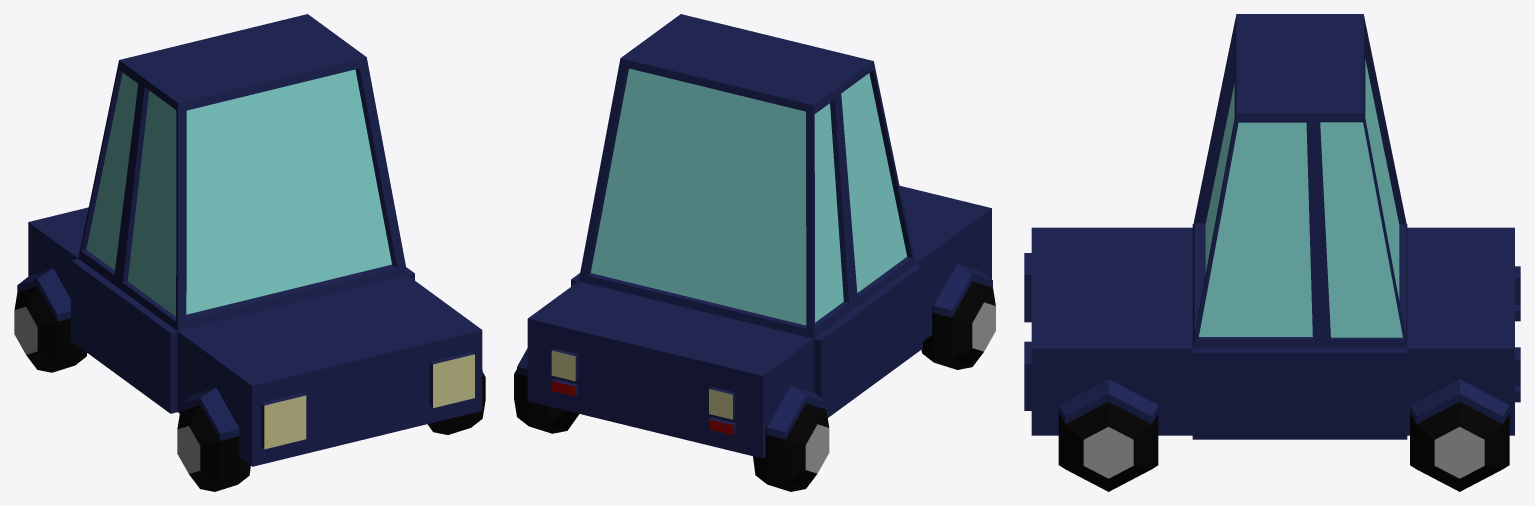
Rendered from LOW POLY CAR.fbx.
3 views of the same model, side by side, from view 1: azimuth 30°, elevation 25°; view 2: azimuth 150°, elevation 25°; view 3: azimuth 270°, elevation 25° (orthographic). The views are drawn at different scales.
Parts seen in each view (by area): view 1: Cube; view 2: Cube; view 3: Cube.
Boxes of the visible parts, x1,y1,x2,y2 form: Cube: (14, 14, 485, 491); Cube: (514, 14, 995, 491); Cube: (1024, 14, 1520, 491).
Size of the model in its own units: 641 by 731 by 896.
